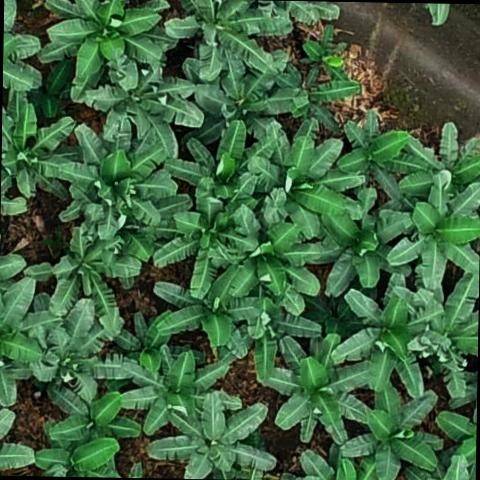Banana-plant: (55, 112, 176, 229), (87, 63, 202, 162), (151, 196, 253, 304), (387, 175, 480, 289), (152, 393, 273, 480), (34, 223, 140, 322), (35, 294, 132, 402), (165, 0, 292, 79), (342, 274, 426, 392), (252, 118, 353, 216), (123, 353, 241, 436), (39, 0, 166, 77), (322, 194, 414, 300), (188, 69, 298, 157), (148, 262, 261, 347), (343, 388, 446, 480), (269, 338, 361, 440), (162, 119, 274, 202), (1, 98, 74, 218), (231, 286, 321, 383), (220, 214, 320, 300), (414, 272, 480, 392), (392, 124, 480, 200), (50, 378, 140, 448), (277, 57, 361, 126), (0, 275, 44, 404), (340, 111, 408, 191), (300, 22, 350, 82)
